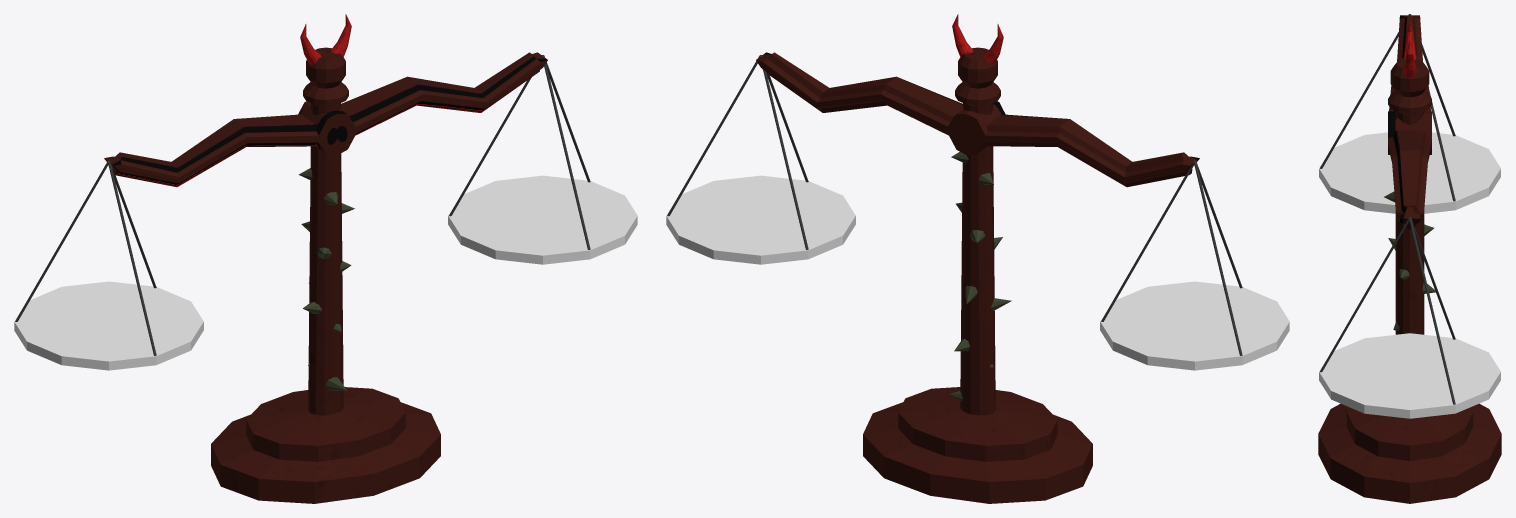
File: scales.glb
The picture shows the model from 3 angles, left to right: view 1: azimuth 30°, elevation 25°; view 2: azimuth 150°, elevation 25°; view 3: azimuth 270°, elevation 25°; orthographic projection. The views are drawn at different scales.
Visible parts, largest first — view 1: Stand, PanR, PanL, Beam; view 2: Stand, PanR, PanL, Beam; view 3: Stand, PanL, PanR, Beam.
Part boxes in pixels (box(x1,y1,x2,y2)): Stand: box(211, 14, 440, 503); PanR: box(14, 160, 203, 370); PanL: box(448, 55, 637, 264); Beam: box(104, 52, 547, 187); Stand: box(863, 14, 1092, 503); PanR: box(1100, 160, 1289, 370); PanL: box(666, 55, 855, 264); Beam: box(756, 52, 1199, 187); Stand: box(1318, 21, 1501, 503); PanL: box(1319, 217, 1500, 418); PanR: box(1319, 14, 1500, 213); Beam: box(1388, 15, 1431, 229).
Size of the model in its own units: 0.9064 by 0.64 by 0.2504.
5 materials, 2 textured.
